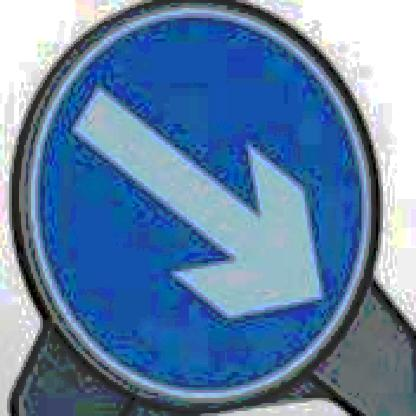Keep right: (16, 7, 379, 399)
